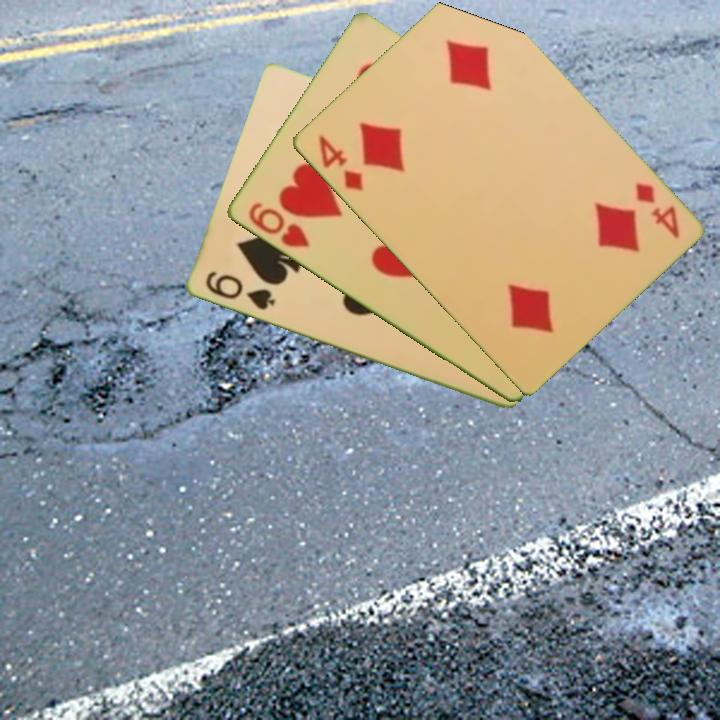4d: (314, 131, 366, 194), (631, 179, 682, 242)
6h: (244, 199, 312, 251)
6s: (201, 267, 278, 313)
